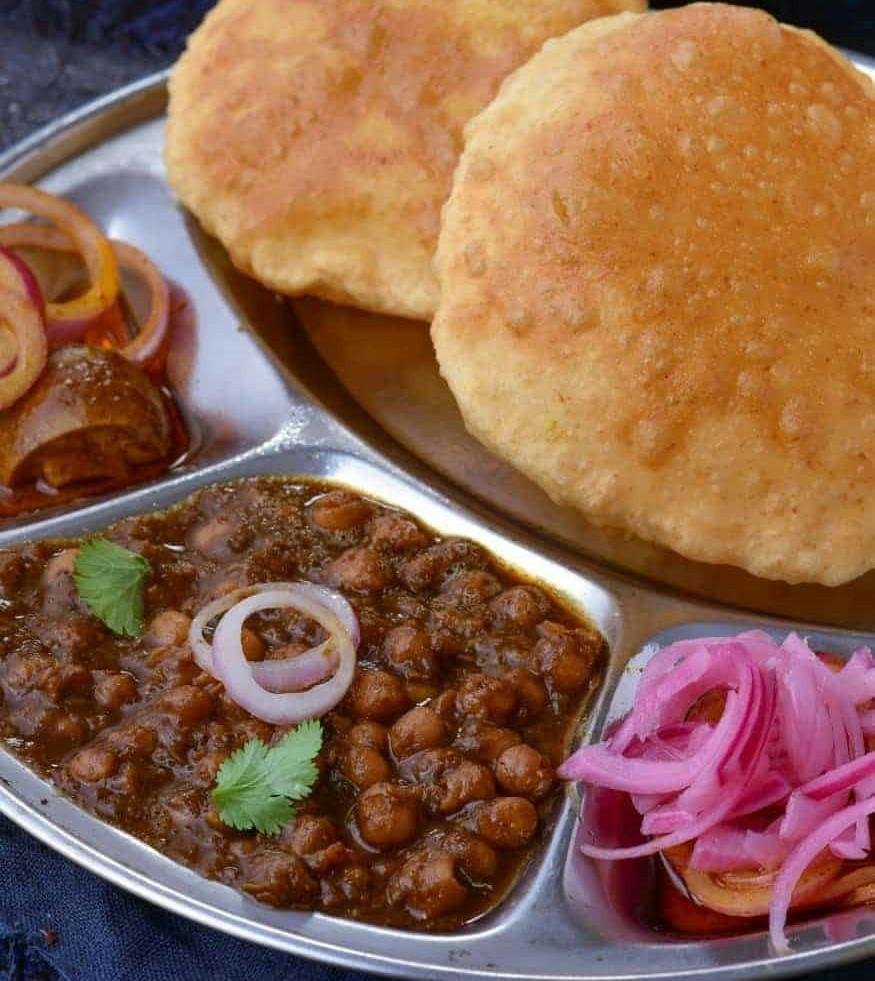Bhatura: (161, 0, 875, 588)
Chole: (0, 470, 610, 940)
